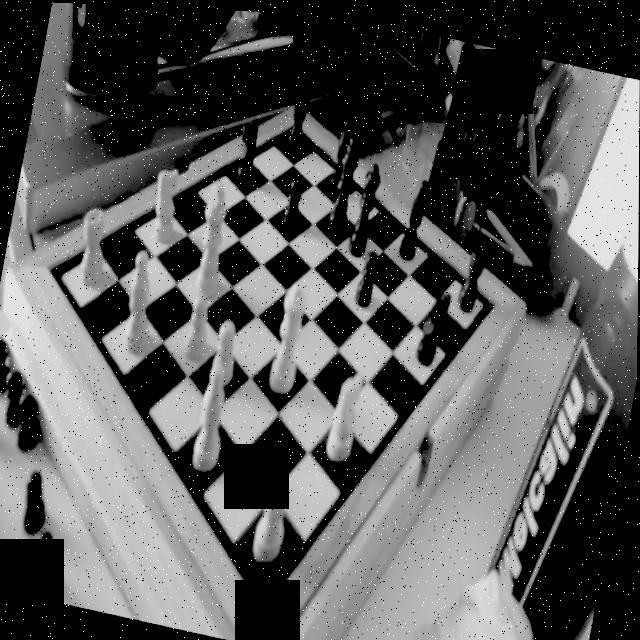chess-table-corners: (252, 582, 278, 622), (484, 282, 506, 316), (39, 250, 61, 282)
